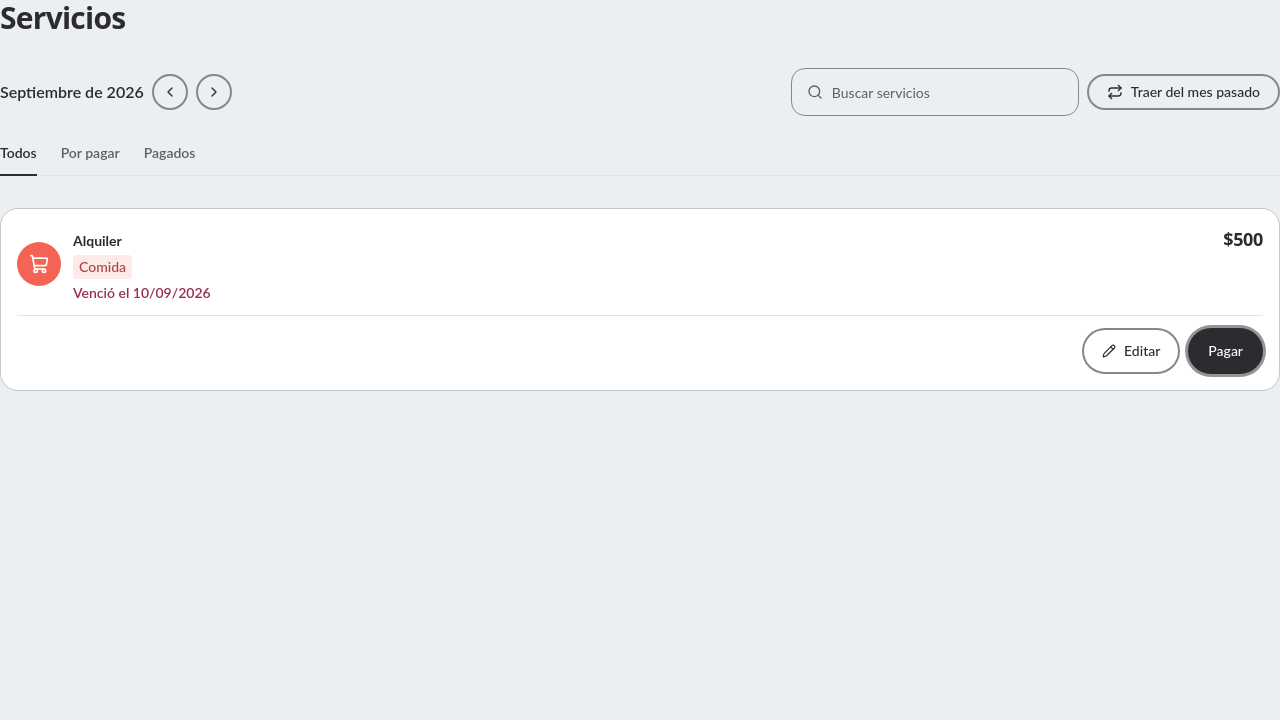
Test: PendientesPage › opens the edit sheet with "Ya lo pagué" pre-checked when "Pagar" is clicked, and a successful submit removes the pendiente from the list without a manual refetc
The width and height of the screenshot is (1280, 720).
Click the button with aria-label "Marcar pagado Alquiler".
click(1226, 351)  # box 1188,328 -> 1263,374
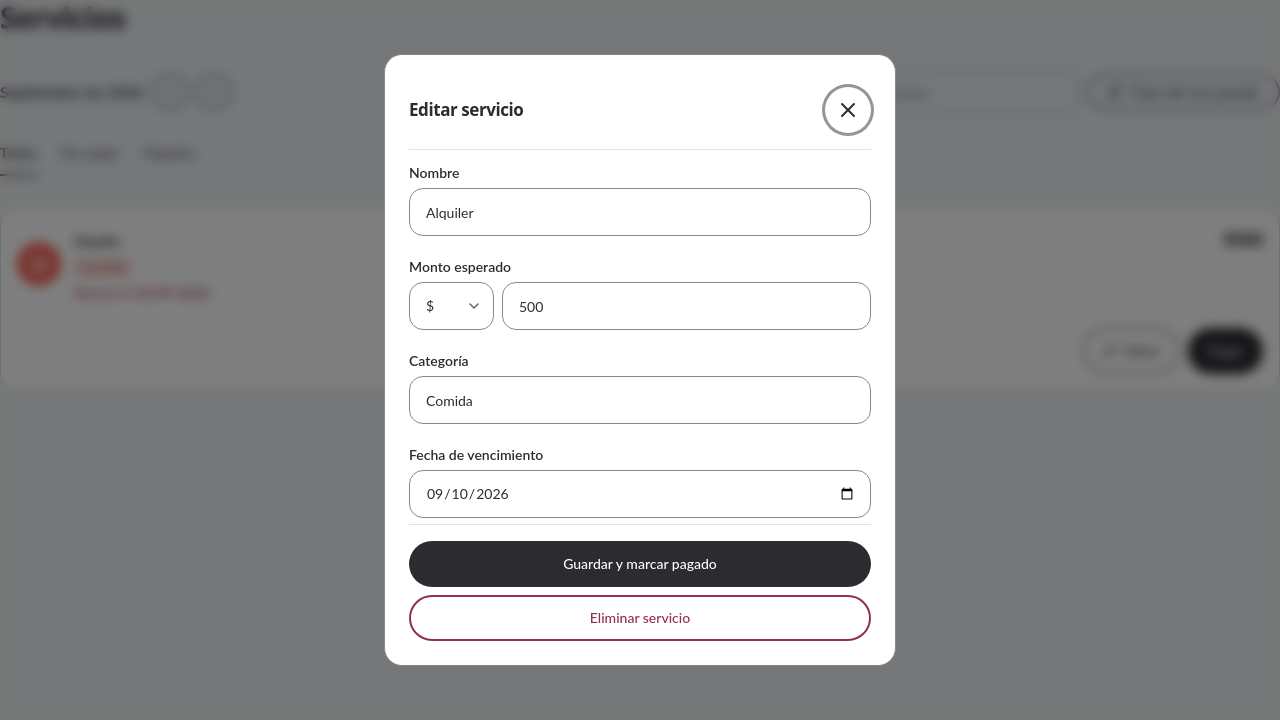
Expected: the field labelled "Monto esperado" holds "500", 502,282 -> 871,330
Click the button "Guardar y marcar pagado".
click(640, 564)  # box 409,541 -> 871,587
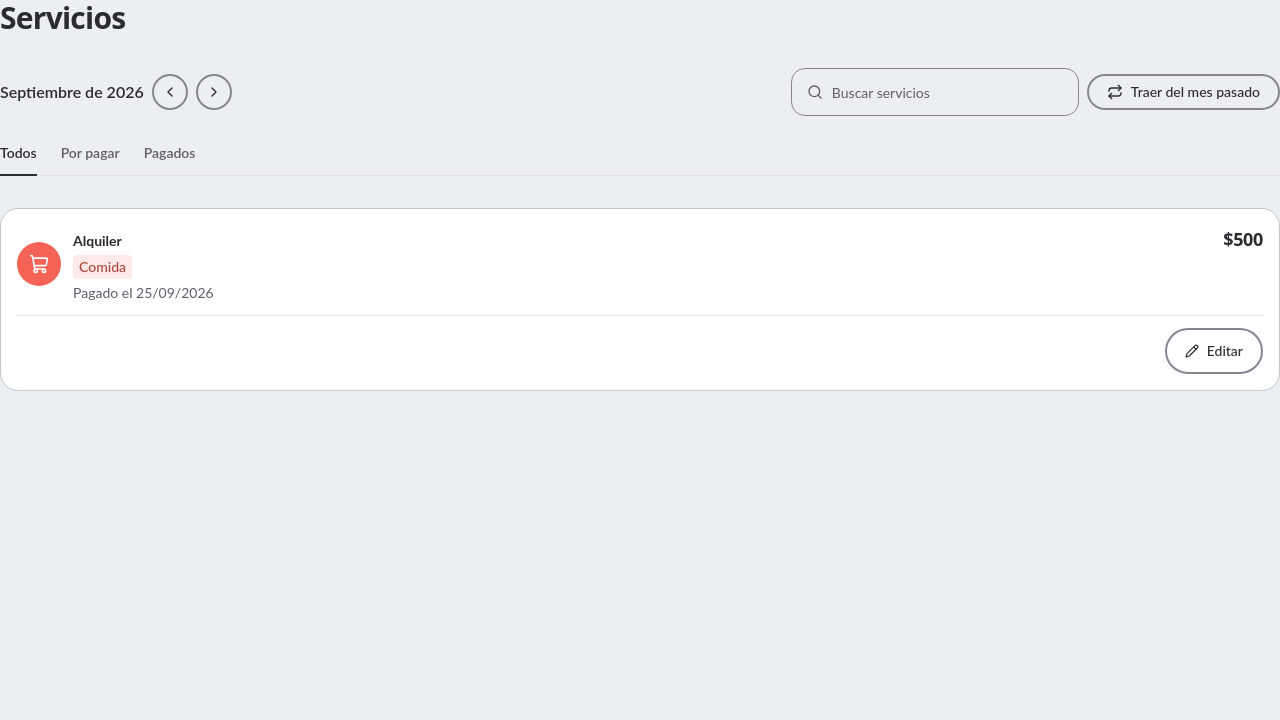
Expected: the list item "Alquiler" shows "Pagado", 73,284 -> 214,301
